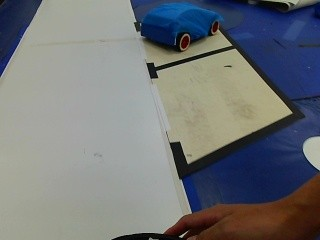car: (142, 1, 219, 59)
